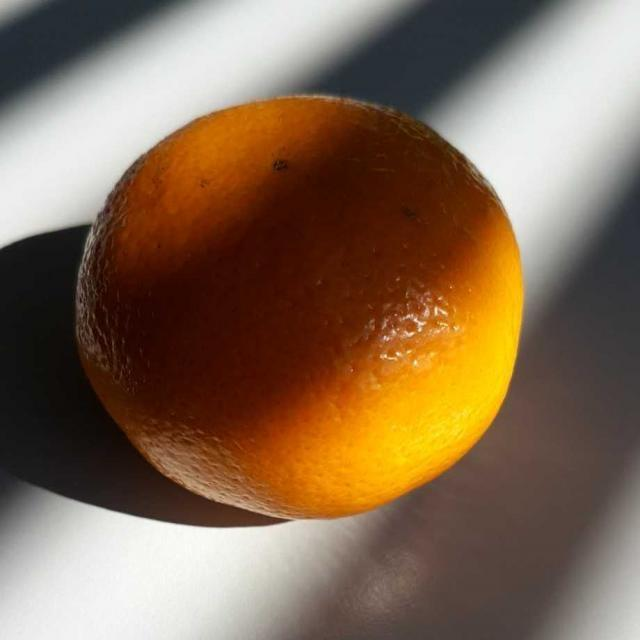mandarine: (85, 103, 503, 517)
